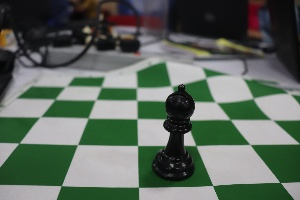black_bishop: (145, 76, 204, 184)
